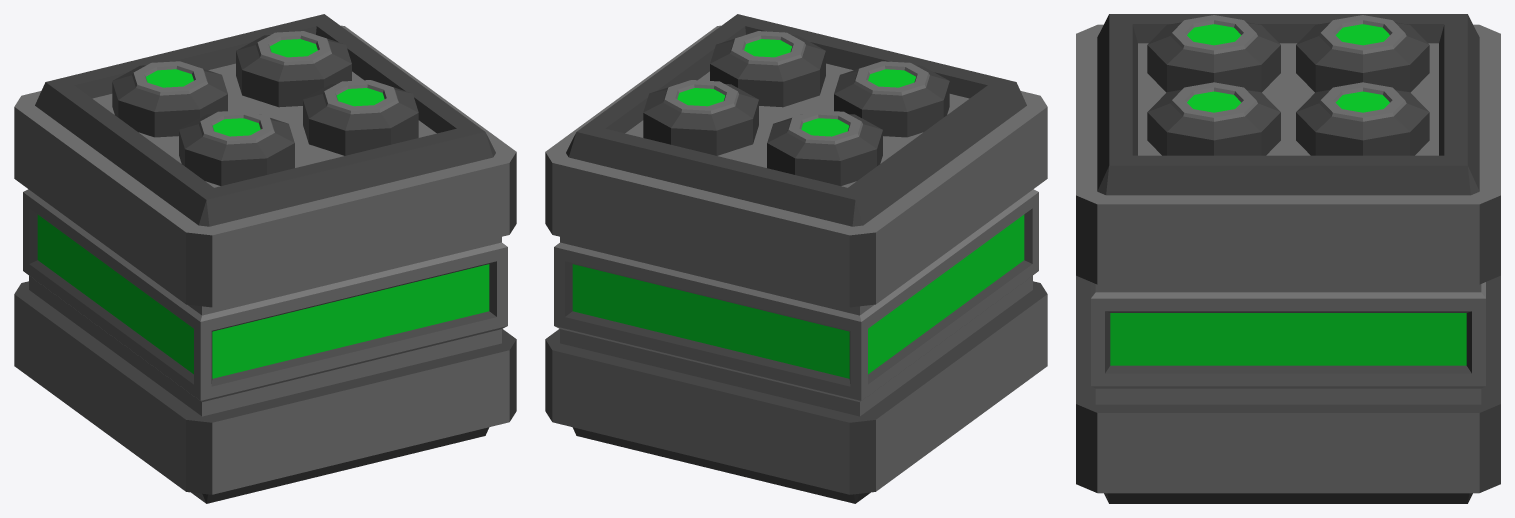
File: Crate1.fbx
The picture shows the model from 3 angles, left to right: view 1: azimuth 30°, elevation 25°; view 2: azimuth 150°, elevation 25°; view 3: azimuth 270°, elevation 25°; orthographic projection. The views are drawn at different scales.
Parts seen in each view (by area): view 1: ToolCrate06.001, ToolCrate06, ToolCrate06.002; view 2: ToolCrate06.001, ToolCrate06, ToolCrate06.002; view 3: ToolCrate06.001, ToolCrate06, ToolCrate06.002.
Part boxes in pixels (<box>): ToolCrate06.001: <box>14,14,516,307</box>; ToolCrate06: <box>23,189,507,416</box>; ToolCrate06.002: <box>14,281,516,503</box>; ToolCrate06.001: <box>545,14,1047,307</box>; ToolCrate06: <box>554,189,1038,416</box>; ToolCrate06.002: <box>545,281,1047,503</box>; ToolCrate06.001: <box>1076,14,1500,284</box>; ToolCrate06: <box>1091,282,1485,404</box>; ToolCrate06.002: <box>1076,275,1500,503</box>.
Bounding box in the file's own units: 40 × 40 × 40.
